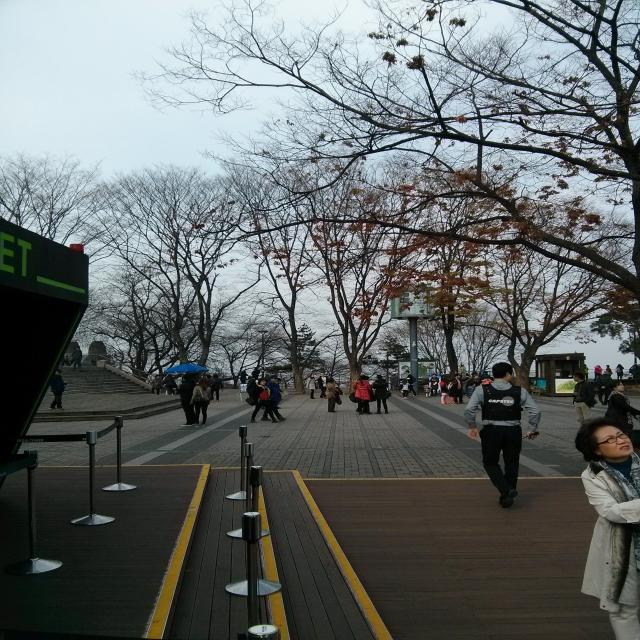body: (569, 412, 640, 640), (461, 361, 544, 511), (603, 380, 640, 430), (172, 374, 198, 427), (251, 378, 281, 423), (572, 372, 598, 422), (260, 374, 287, 421), (189, 377, 213, 428), (348, 375, 377, 415), (354, 375, 373, 415), (324, 377, 344, 413), (49, 369, 66, 411), (372, 374, 389, 414), (596, 370, 614, 406), (462, 370, 495, 386), (448, 373, 465, 404), (400, 370, 418, 398), (266, 377, 281, 409), (162, 374, 180, 396), (210, 373, 223, 403), (316, 372, 330, 399), (304, 373, 318, 400), (438, 377, 450, 405), (70, 346, 83, 370), (428, 374, 440, 397), (465, 374, 481, 391), (245, 376, 257, 398), (150, 374, 162, 395), (449, 380, 459, 404), (628, 362, 638, 380), (402, 379, 411, 399), (614, 363, 624, 380), (467, 382, 476, 400), (446, 380, 454, 400), (423, 382, 432, 398), (239, 370, 249, 384), (250, 368, 260, 381), (593, 365, 601, 381), (606, 364, 614, 380), (458, 365, 466, 380), (196, 374, 208, 382), (584, 364, 589, 382), (164, 384, 172, 395), (635, 364, 640, 379), (597, 365, 603, 377), (263, 373, 271, 382), (206, 374, 212, 384)
